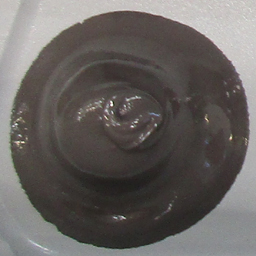perfect: (6, 10, 252, 251)
